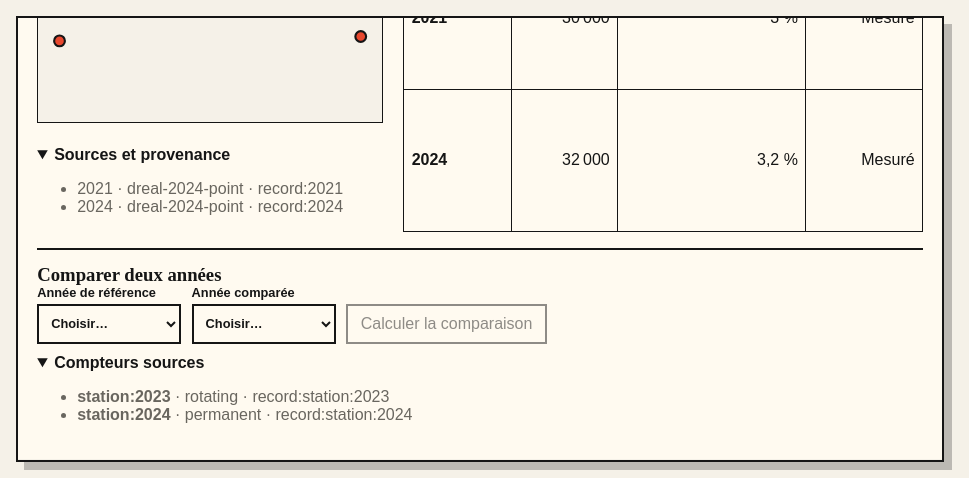
Scenario: BottomSheet › compares two compatible years from the same station group
This screenshot has width=969, height=478.
(page scrolled)
Select "2021" in the dropdown labelled "Année de référence". click: [109, 324]
box: [37,304,181,344]
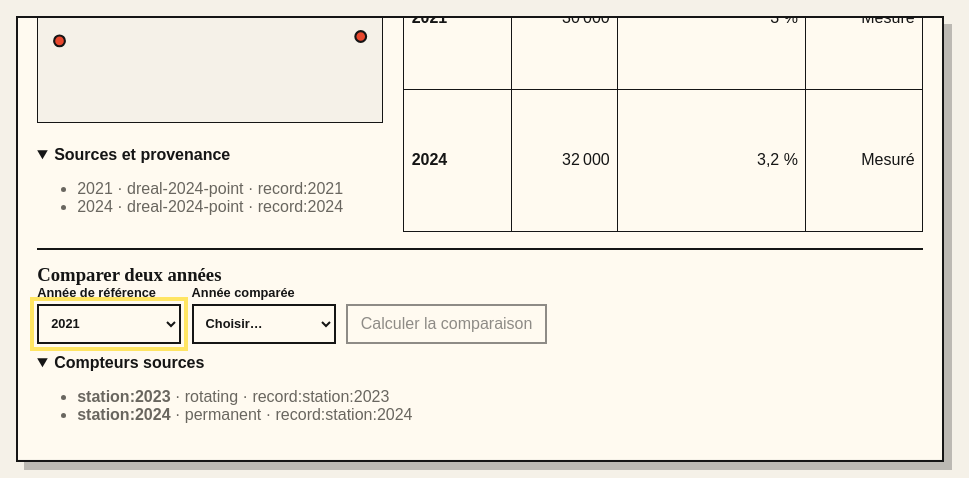
Select "2024" in the dropdown labelled "Année comparée". click: [264, 324]
box: [192,304,336,344]
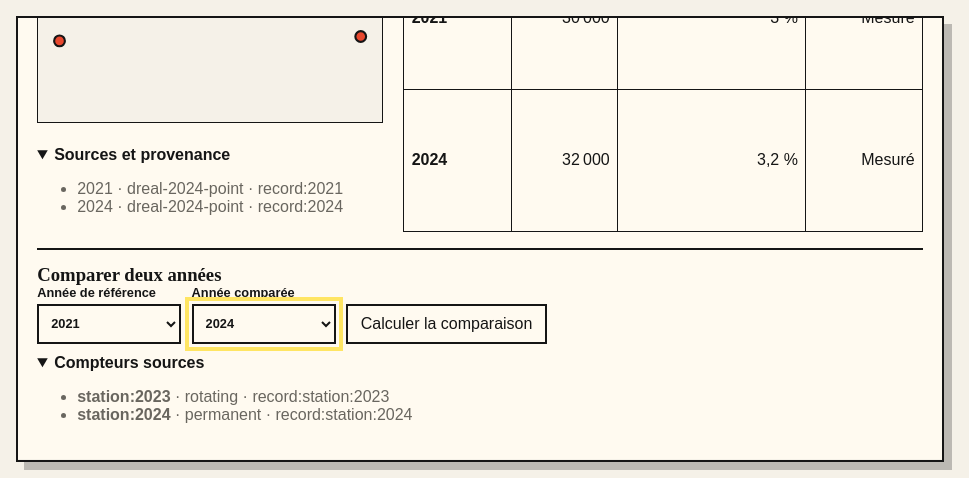
Click the button "Calculer la comparaison". click: [447, 324]
box: [346,304,547,344]
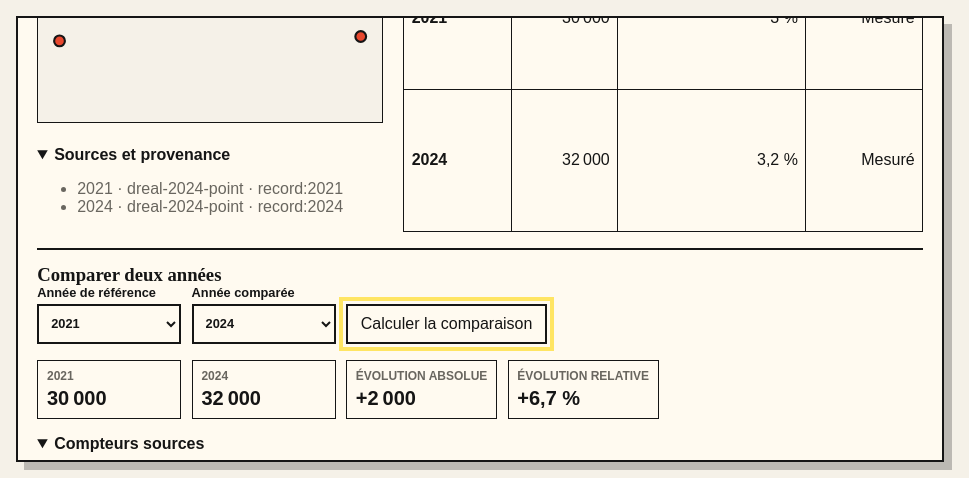
Expected: the text "+6,7 %" is shown, [517,387,580,409]
